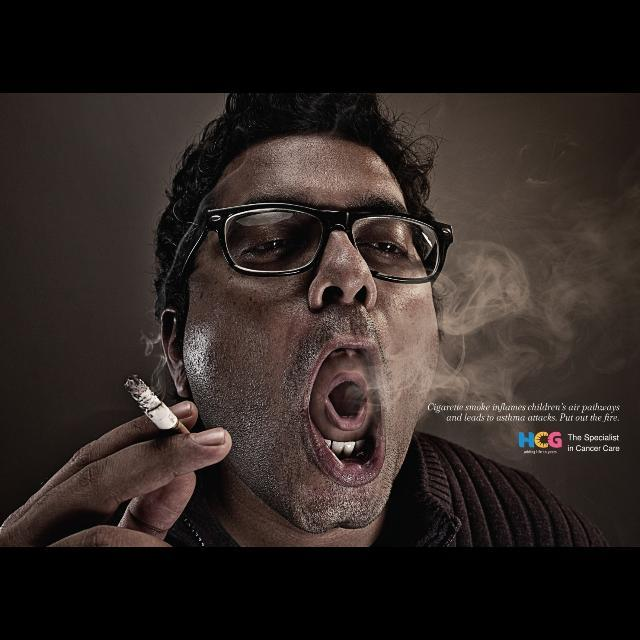rokok: (121, 372, 212, 454)
